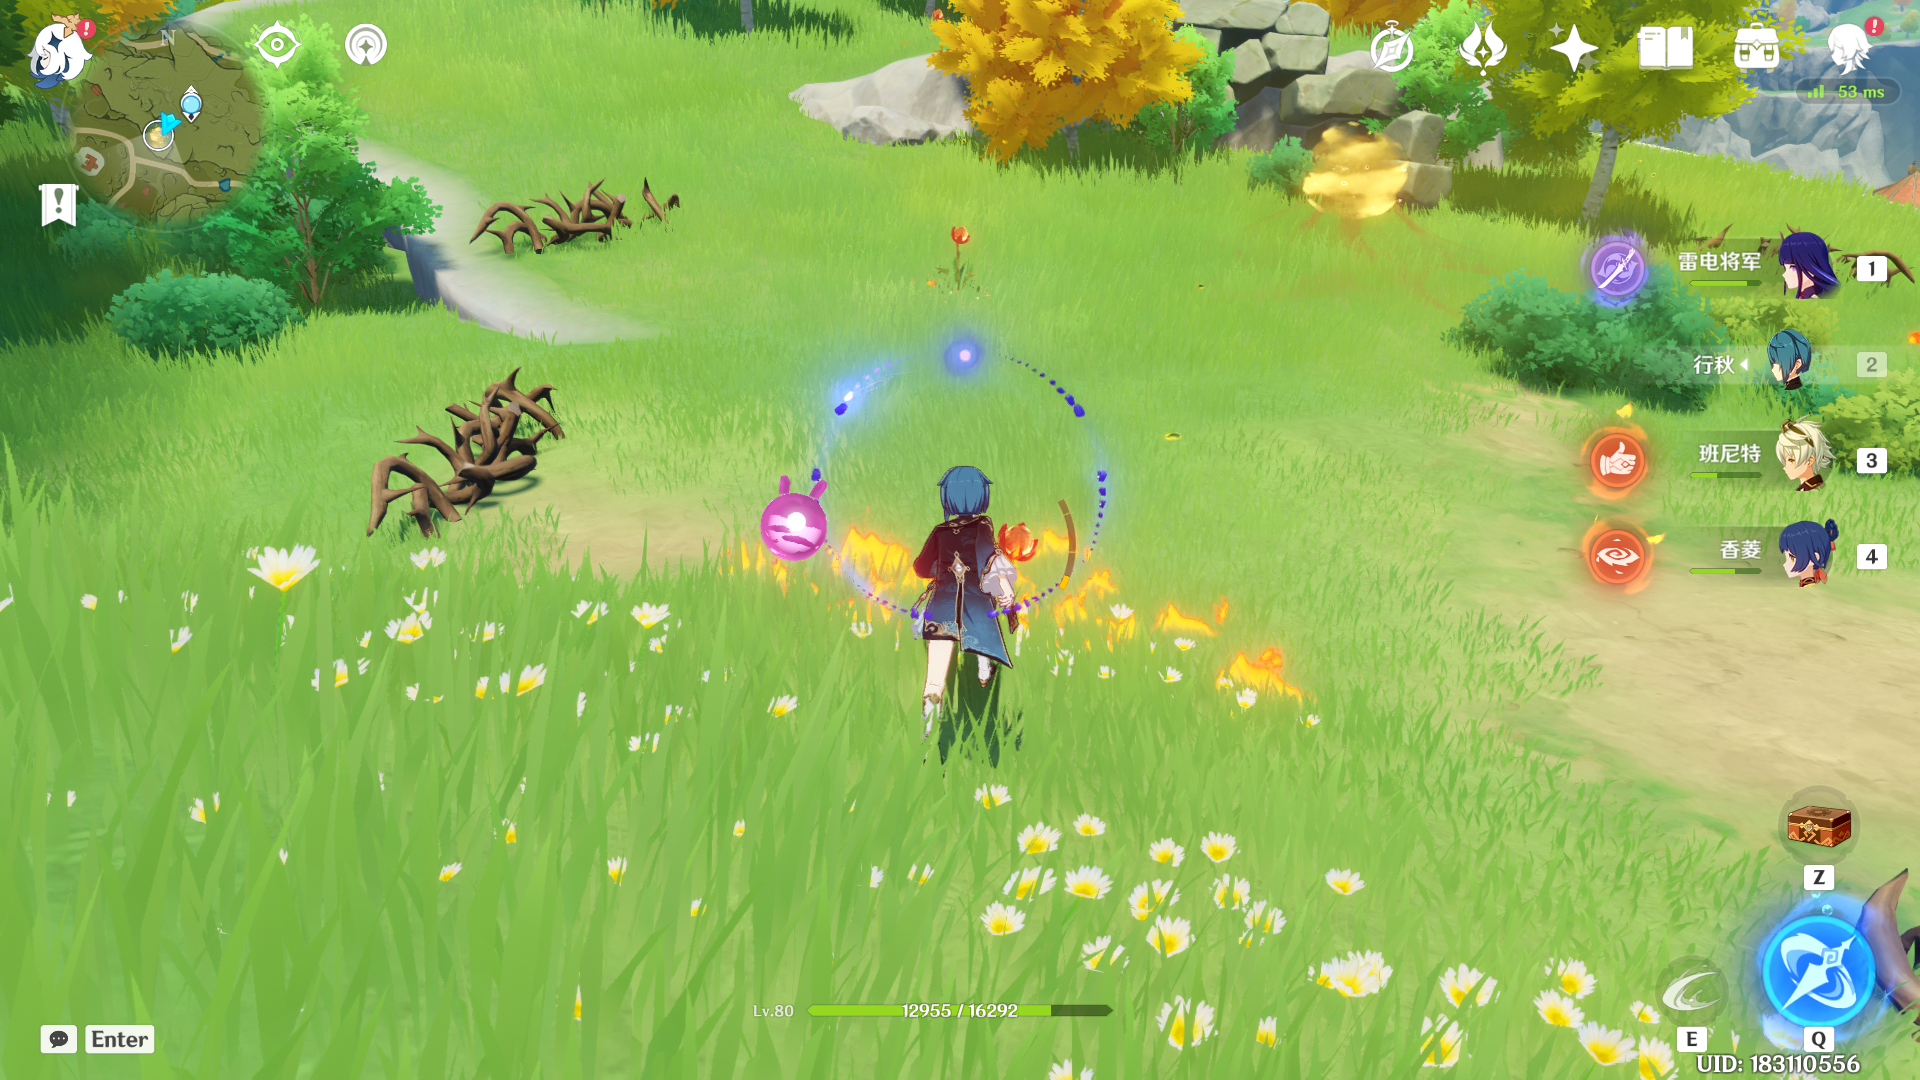character: (833, 450, 1073, 785)
